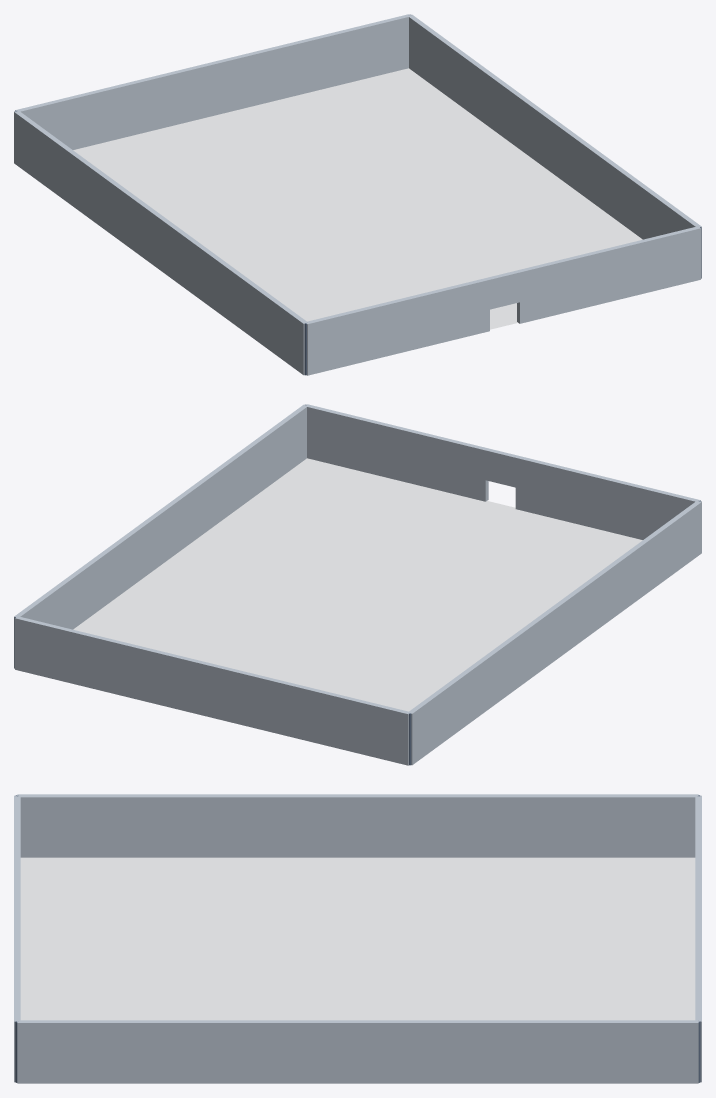
3 views of the same model, one above another, from view 1: azimuth 30°, elevation 25°; view 2: azimuth 150°, elevation 25°; view 3: azimuth 270°, elevation 25° (orthographic). The views are drawn at different scales.
Visible parts, largest first — view 1: room-content; view 2: room-content; view 3: room-content.
Part boxes in pixels (<box>): room-content: <box>14,14,701,375</box>; room-content: <box>14,404,701,765</box>; room-content: <box>14,794,701,1083</box>.
Size of the model in its own units: 40.5 by 5 by 51.5.
